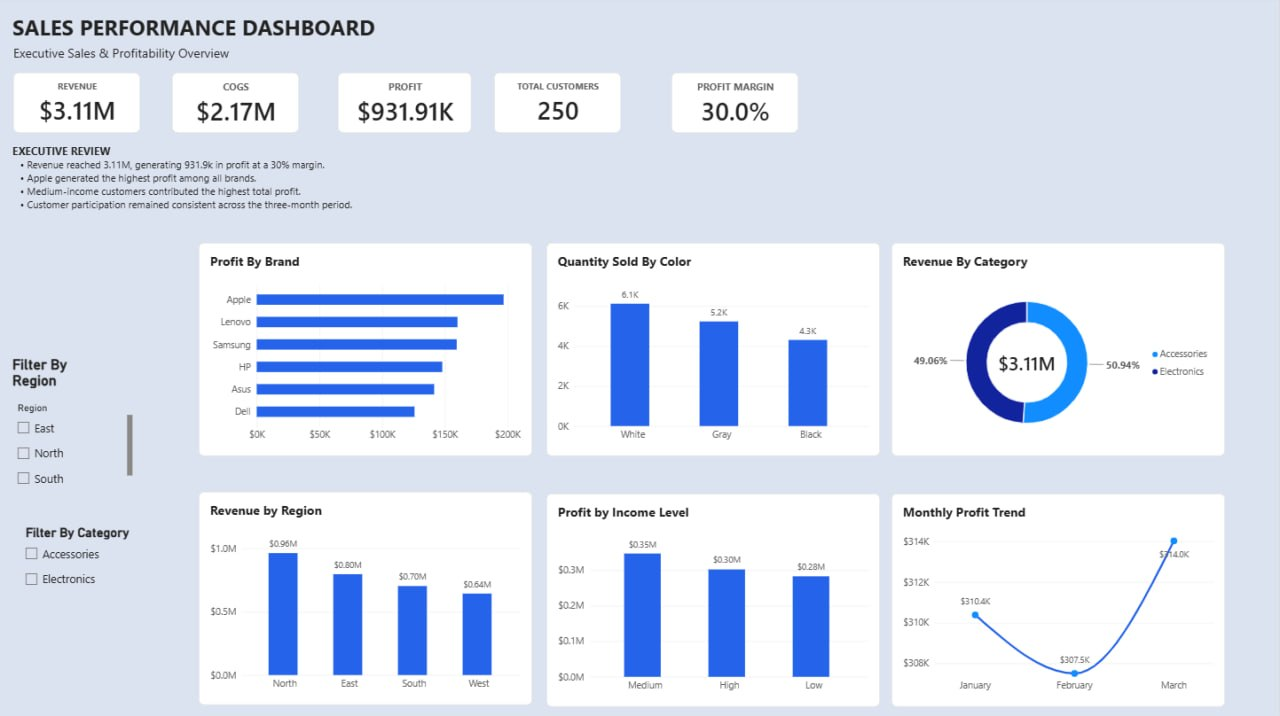

The dashboard page shown, as its layout file describes it:
{"tool":"powerbi","page":{"name":"Page 1","canvas":[1920,1080],"ordinal":0},"visuals":[{"type":"cardVisual","fields":{"Data":["Customers.TOTAL REVENUE"]},"box":[22.6,114.4,190,90],"z":0},{"type":"cardVisual","fields":{"Data":["Customers.TOTAL COGS"]},"box":[260.7,114.4,190,90],"z":1000},{"type":"cardVisual","fields":{"Data":["Customers.TOTAL PROFIT"]},"box":[509.4,114.4,200.8,90.4],"z":2000},{"type":"cardVisual","fields":{"Data":["Customers.TOTAL CUSTOMERS"]},"box":[743.5,114.4,190,90],"z":3000},{"type":"clusteredBarChart","title":"Profit By Brand","fields":{"Category":["Products.Brand"],"Y":["Sum(Sales.Profit)"]},"box":[300.6,369.8,500,320],"z":4000},{"type":"clusteredColumnChart","title":"Quantity Sold By Color","fields":{"Category":["Products.Color"],"Y":["Sum(Sales.Quantity)"]},"box":[822,369.8,500,320],"z":5000},{"type":"clusteredColumnChart","title":"Revenue by Region","fields":{"Category":["Customers.Region"],"Y":["Sum(Sales.Revenue)"]},"box":[300.6,743.5,500,320],"z":6000},{"type":"clusteredColumnChart","title":"Profit by Income Level","fields":{"Category":["Customers.Income Level"],"Y":["Sum(Sales.Profit)"]},"box":[822,746.2,500,320],"z":7000},{"type":"donutChart","title":"Revenue By Category","fields":{"Category":["Products.Category"],"Y":["Sum(Sales.Revenue)"]},"box":[1339.4,369.8,500,320],"z":8000},{"type":"lineChart","title":"Monthly Profit Trend","fields":{"Category":["Sales.Month Name"],"Y":["Sum(Sales.Profit)"]},"box":[1339.4,746.2,500,320],"z":9000},{"type":"slicer","title":"Filter By Region","fields":{"Values":["Customers.Region"]},"box":[21.3,540,179.6,206.2],"z":10000},{"type":"slicer","fields":{"Values":["Products.Category"]},"box":[33.3,792.7,179.6,117],"z":11000},{"type":"textbox","box":[22.6,71.8,355.1,25.3],"z":12000},{"type":"cardVisual","fields":{"Data":["Sales.PROFIT MARGIN"]},"box":[1009.5,114.4,190,90],"z":13000},{"type":"textbox","box":[21.3,23.9,557.3,47.9],"z":14000},{"type":"textbox","box":[21.3,220.8,538.7,113.1],"z":15000}]}

Visuals, with their boxes in screenshot pixels (x1, y1, x2, y2), scaled from the page's 1920x1080 canvas onto the 1280x716 screenshot:
cardVisual - Customers.TOTAL REVENUE: rect(15, 76, 142, 136)
cardVisual - Customers.TOTAL COGS: rect(174, 76, 300, 136)
cardVisual - Customers.TOTAL PROFIT: rect(340, 76, 473, 136)
cardVisual - Customers.TOTAL CUSTOMERS: rect(496, 76, 622, 136)
"Profit By Brand" clusteredBarChart: rect(200, 245, 534, 457)
"Quantity Sold By Color" clusteredColumnChart: rect(548, 245, 881, 457)
"Revenue by Region" clusteredColumnChart: rect(200, 493, 534, 705)
"Profit by Income Level" clusteredColumnChart: rect(548, 495, 881, 707)
"Revenue By Category" donutChart: rect(893, 245, 1226, 457)
"Monthly Profit Trend" lineChart: rect(893, 495, 1226, 707)
"Filter By Region" slicer: rect(14, 358, 134, 495)
slicer - Products.Category: rect(22, 526, 142, 603)
textbox: rect(15, 48, 252, 64)
cardVisual - Sales.PROFIT MARGIN: rect(673, 76, 800, 136)
textbox: rect(14, 16, 386, 48)
textbox: rect(14, 146, 373, 221)
